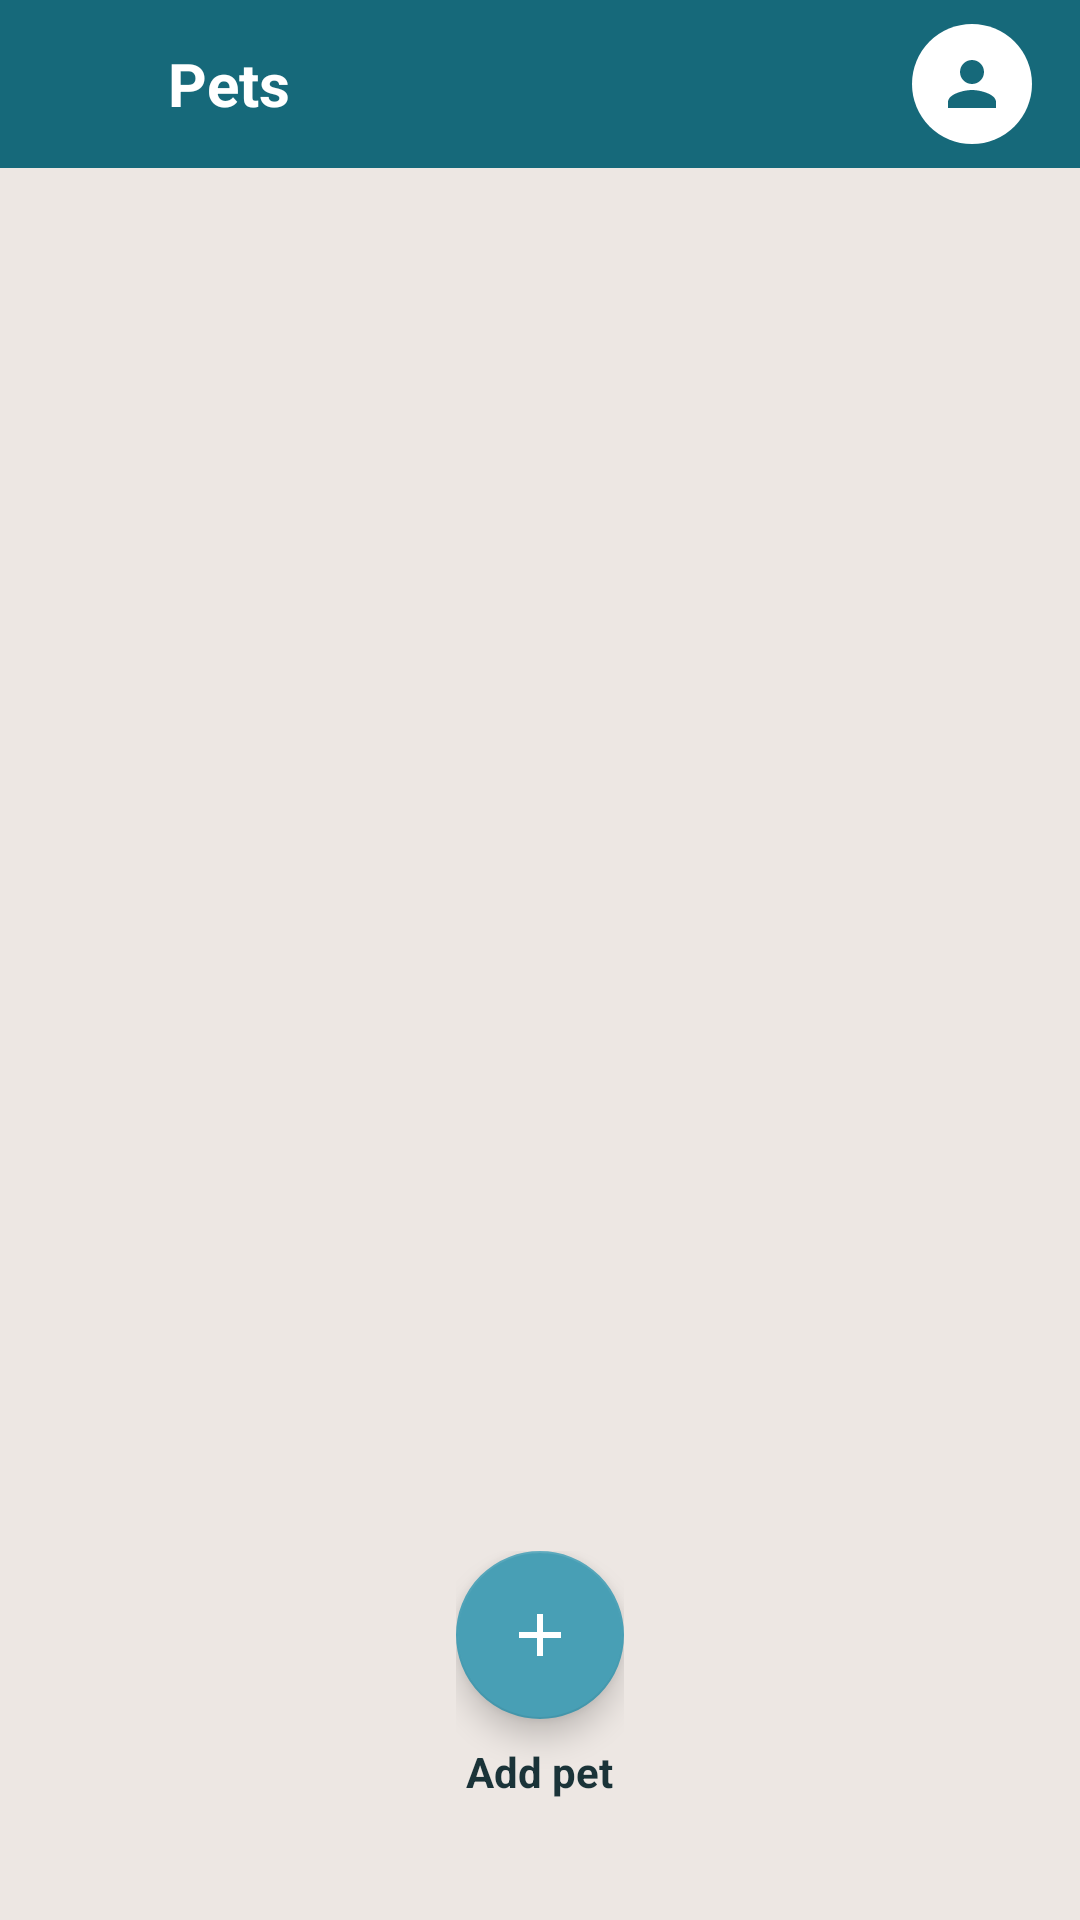

Screen size 1080x1920. Icon name, then its box in pixels as (x1, y1, x2, y2):
User profile: (912, 24, 1032, 144)
